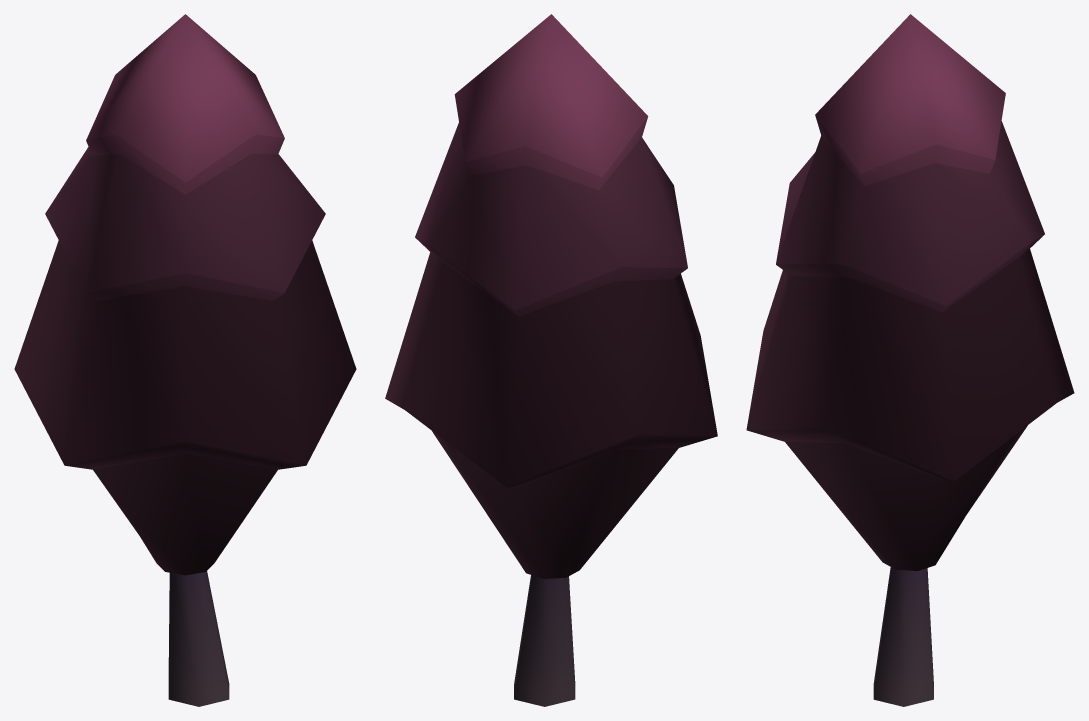
Rendered from TreeDiamondA1.fbx.
3 views of the same model, side by side, from view 1: azimuth 30°, elevation 25°; view 2: azimuth 150°, elevation 25°; view 3: azimuth 270°, elevation 25° (orthographic).
Visible parts, largest first — view 1: TreeDiamondA1; view 2: TreeDiamondA1; view 3: TreeDiamondA1.
Boxes of the visible parts, bbox=[...] form: TreeDiamondA1: bbox=[14, 14, 356, 706]; TreeDiamondA1: bbox=[385, 14, 717, 706]; TreeDiamondA1: bbox=[746, 14, 1074, 706].
Size of the model in its own units: 68.25 by 155 by 68.25.
